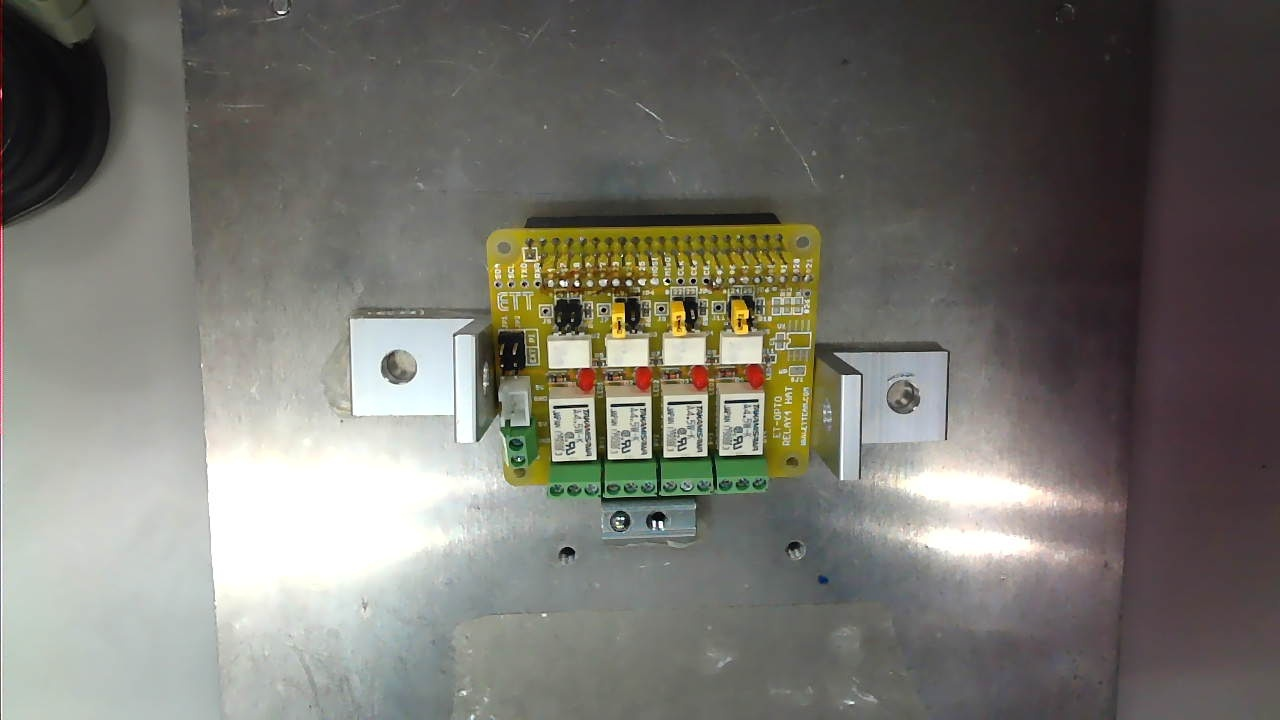ry: (544, 371, 599, 461)
